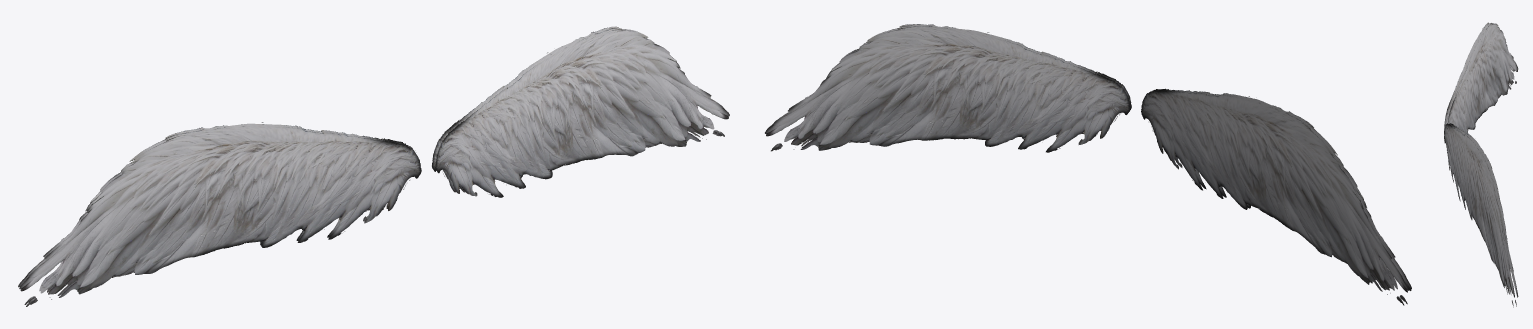
File: WINGS.fbx
The picture shows the model from 3 angles, left to right: view 1: azimuth 30°, elevation 25°; view 2: azimuth 150°, elevation 25°; view 3: azimuth 270°, elevation 25°; orthographic projection. The views are drawn at different scales.
Visible parts, largest first — view 1: WINGS; view 2: WINGS; view 3: WINGS.
Boxes of the visible parts, x1,y1,x2,y2 form: WINGS: (18, 26, 729, 306); WINGS: (765, 24, 1411, 305); WINGS: (1444, 22, 1518, 307).
Size of the model in its own units: 328 by 75.17 by 45.6.
